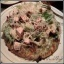pizza: (7, 4, 60, 59)
